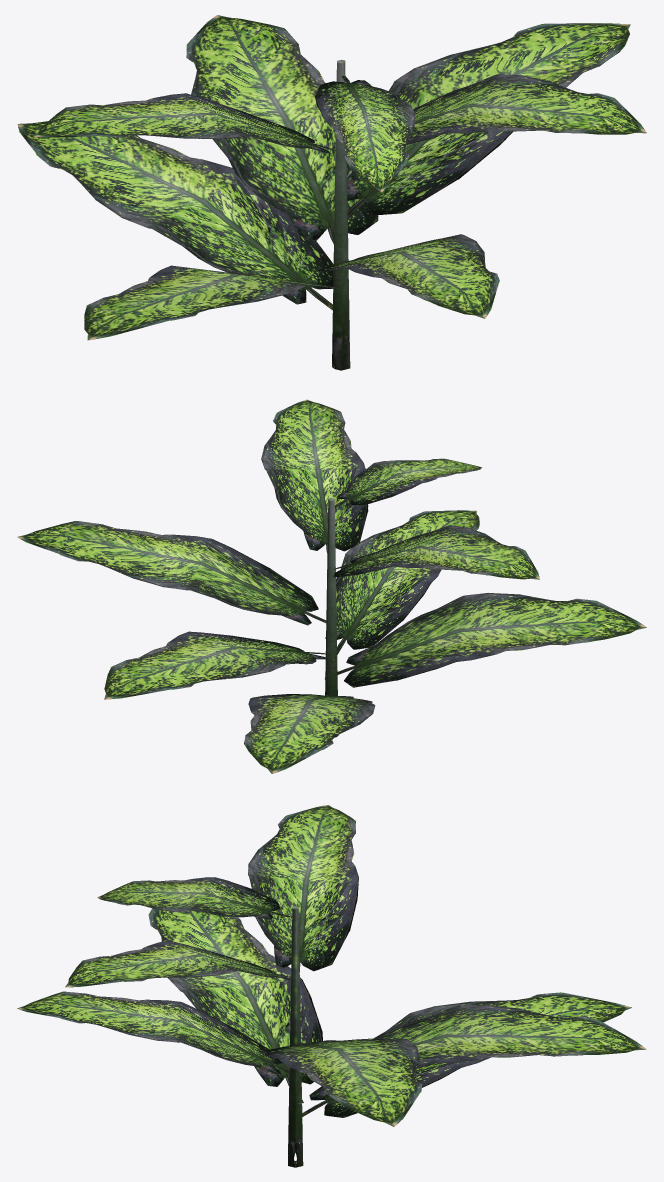
Rendered from bush3.fbx.
The picture shows the model from 3 angles, top to bottom: view 1: azimuth 30°, elevation 25°; view 2: azimuth 150°, elevation 25°; view 3: azimuth 270°, elevation 25°; orthographic projection. The views are drawn at different scales.
Parts seen in each view (by area): view 1: Mesh Object; view 2: Mesh Object; view 3: Mesh Object.
Part boxes in pixels (x1,y1,x2,y2): Mesh Object: (17, 15, 646, 370); Mesh Object: (17, 399, 646, 773); Mesh Object: (17, 805, 646, 1167).
Bounding box in the file's own units: 3.75 × 1.61 × 3.59.
